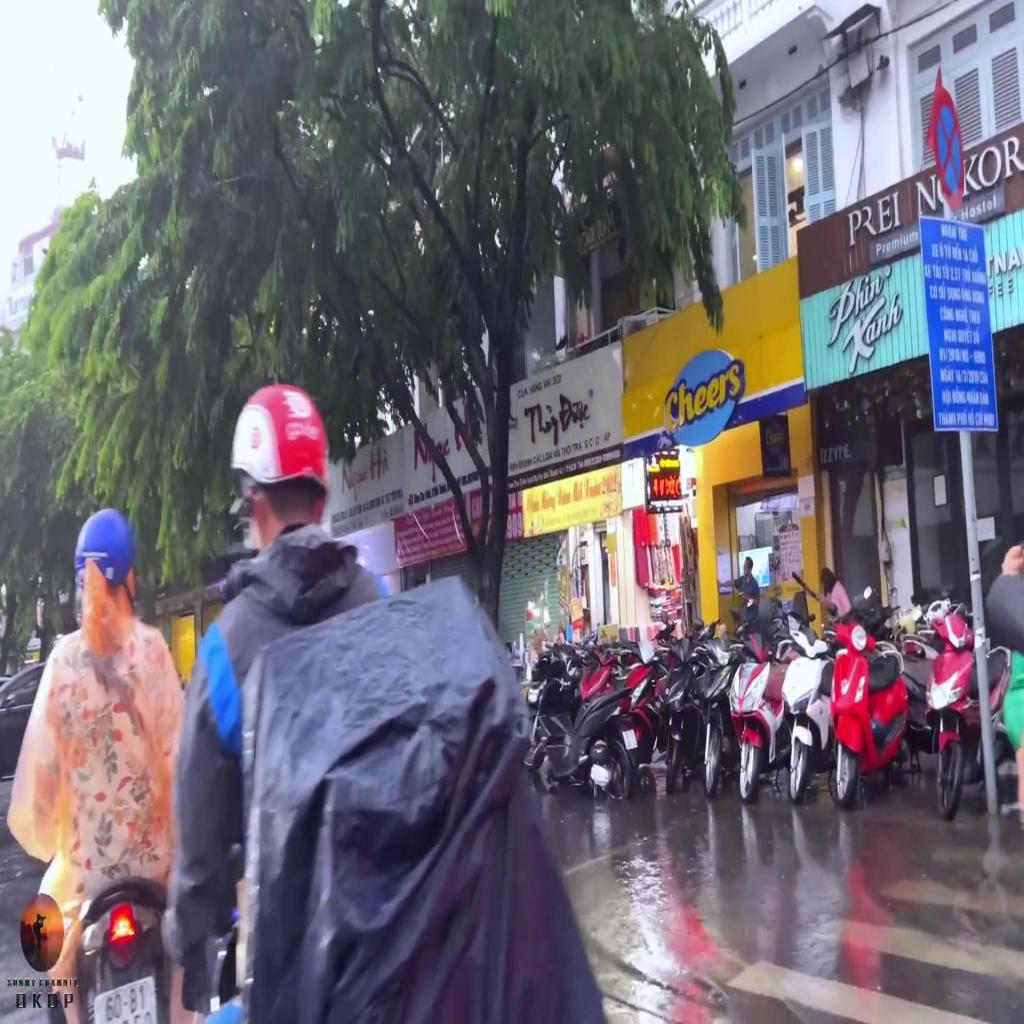cam_dung_xe_va_do_xe: (930, 89, 965, 208)
